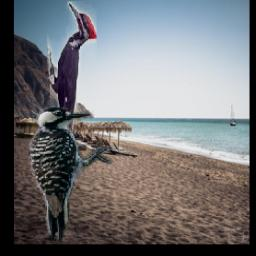Woodpecker: (26, 106, 115, 242), (47, 2, 97, 174)
